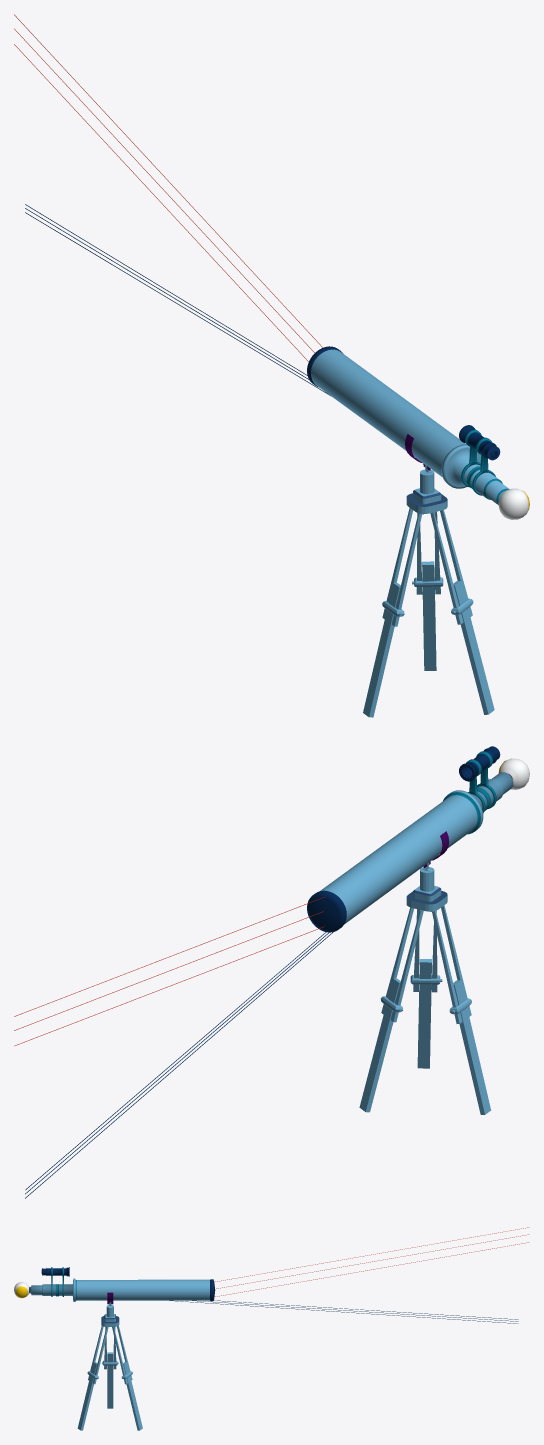
Rendered from telescope.glb.
3 views of the same model, one above another, from view 1: azimuth 30°, elevation 25°; view 2: azimuth 150°, elevation 25°; view 3: azimuth 270°, elevation 25° (orthographic). The views are drawn at different scales.
Parts seen in each view (by area): view 1: telescope, stand, incident, reflected, eye; view 2: telescope, stand, reflected, cap, incident, eye; view 3: telescope, stand, reflected, incident.
Boxes of the visible parts, x1,y1,x2,y2 form: telescope: [311, 349, 509, 504]; stand: [363, 465, 494, 717]; incident: [14, 14, 322, 361]; reflected: [25, 204, 330, 395]; eye: [498, 488, 529, 519]; telescope: [320, 746, 513, 924]; stand: [359, 862, 491, 1114]; reflected: [25, 932, 333, 1198]; cap: [307, 890, 346, 932]; incident: [14, 897, 324, 1046]; eye: [498, 758, 529, 789]; telescope: [29, 1267, 209, 1301]; stand: [77, 1302, 142, 1430]; reflected: [169, 1300, 518, 1323]; incident: [214, 1227, 529, 1296].
Size of the model in its own units: 7.27 by 26.81 by 64.14.
3 materials, 3 textured.
